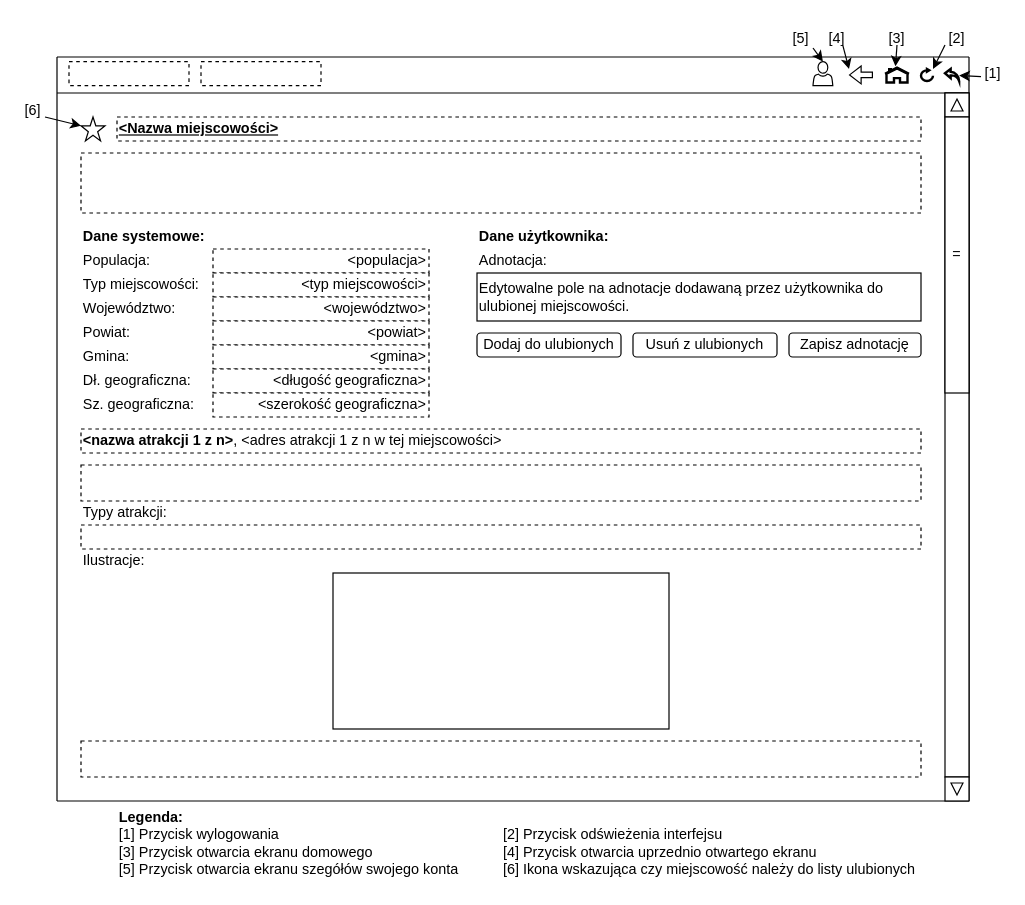
Image size: 1025x905. Some labels were removed from this diagram. The centre of each missing label's shape, as x and y in pixels:
"Ilustracja 1 z k atrakcji 1 z n" belongs at [500,650].
"login" belongs at [128,73].
"opis atrakcji 1 z n" belongs at [500,482].
"opis ilustracji 1 z k atrakcji 1 z n" belongs at [500,758].
"opis miejscowości" belongs at [500,182].
"rola" belongs at [260,73].
"wymienione po przecinku typy atrackji 1 z n" belongs at [500,536].
